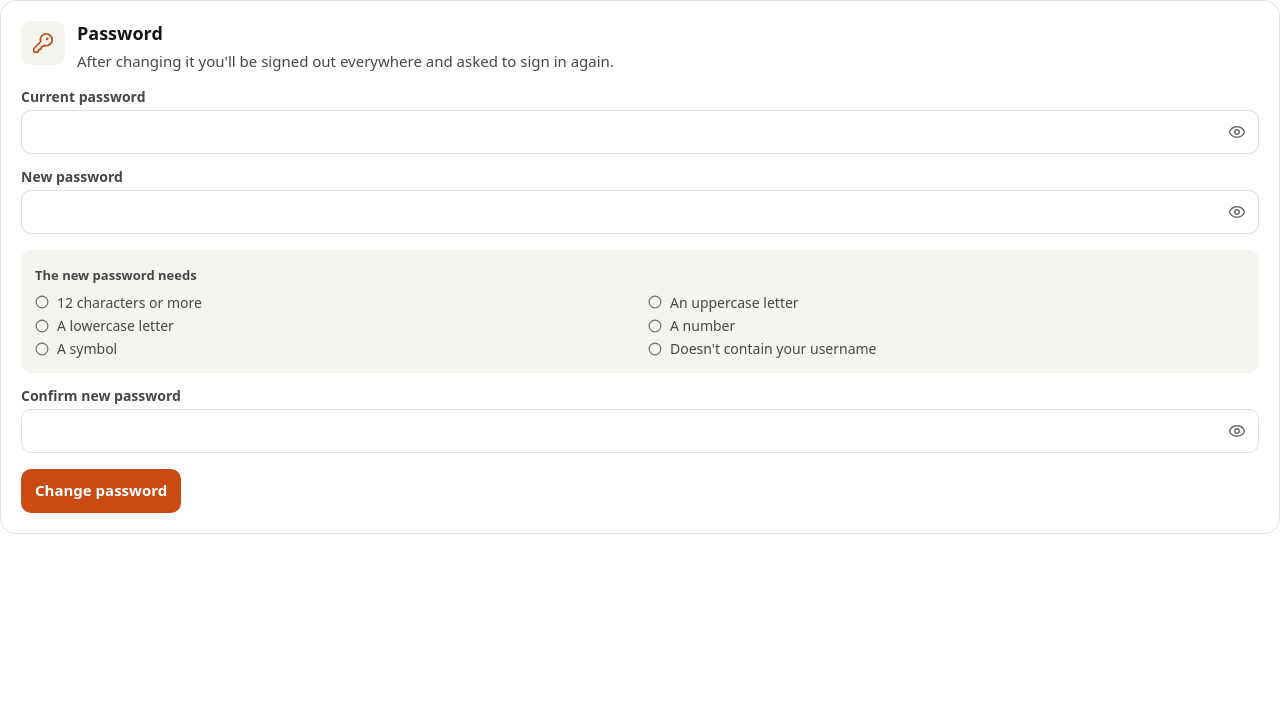
Test: change password › rejects a password containing the username and a mismatched confirmation
Type "Manager#Wolf2026!" into the password field labelled "Current password" at {"x": 640, "y": 132}, box [21,110,1259,154]
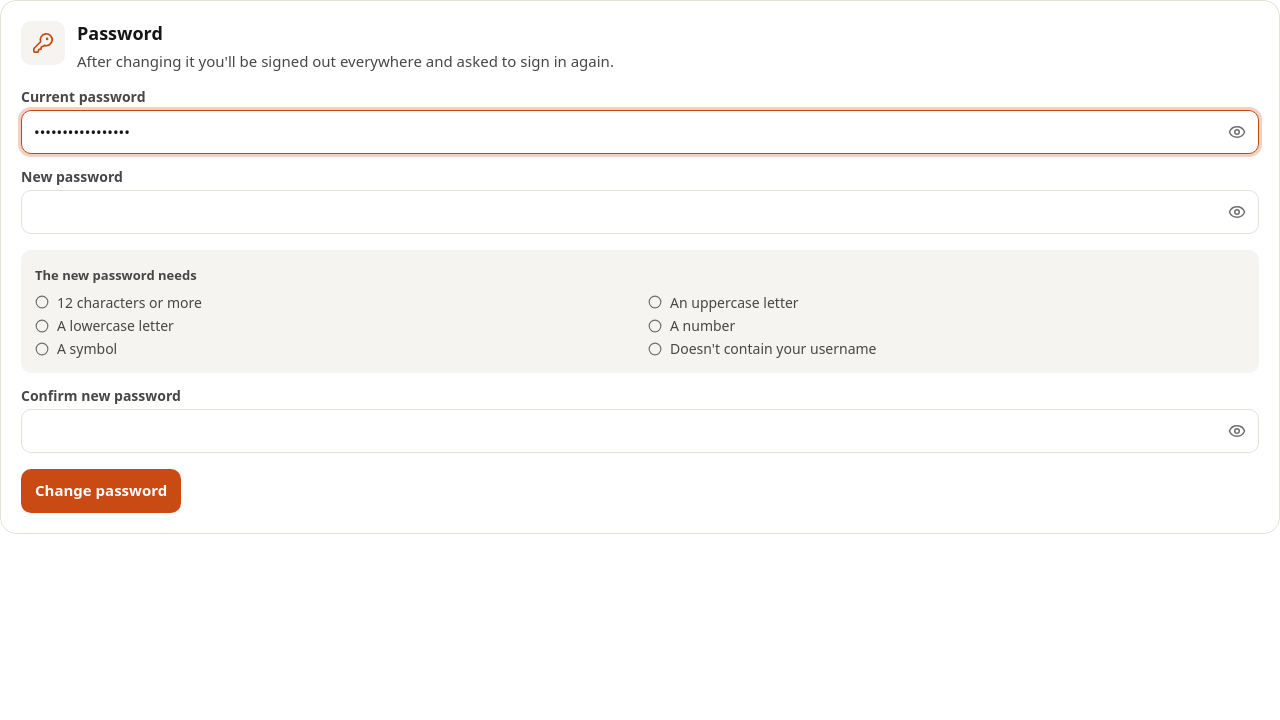
Type "Xgh.manager#2026" into the password field labelled "New password" at {"x": 640, "y": 212}, box [21,190,1259,234]
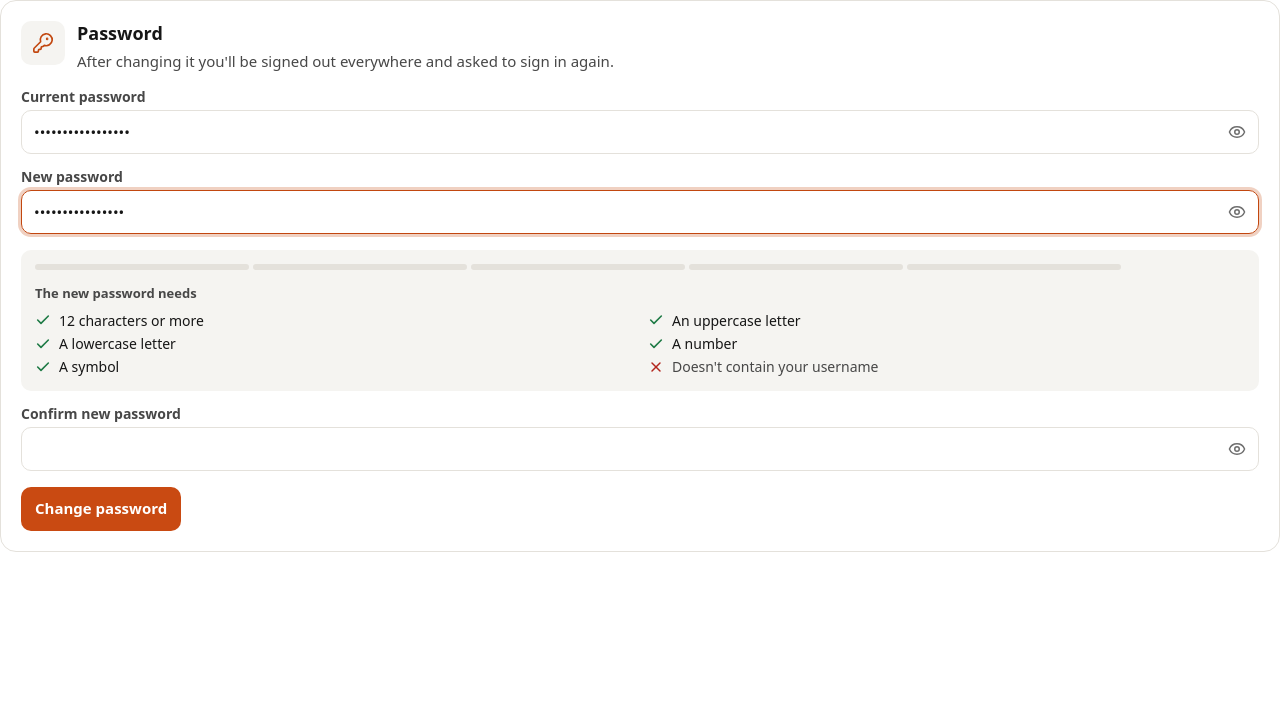
Type "Something#Else2026" into the password field labelled "Confirm new password" at {"x": 640, "y": 448}, box [21,426,1259,470]
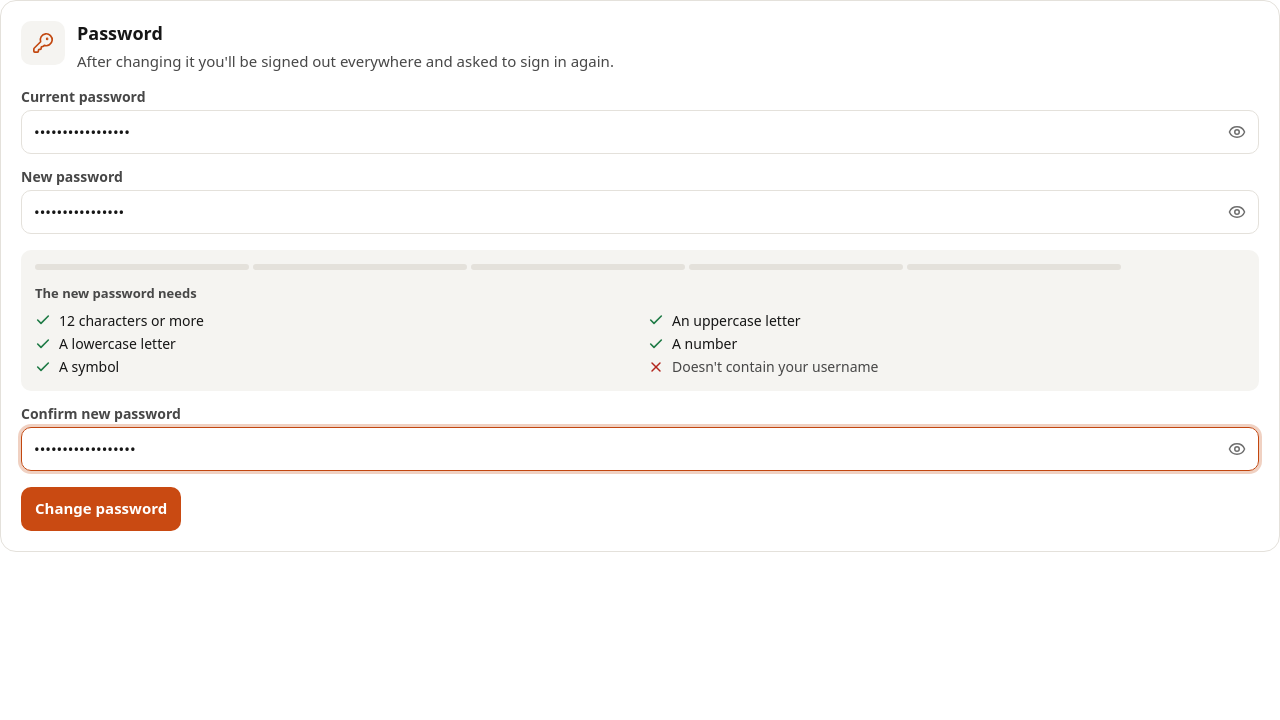
Click the button "Change password" at {"x": 101, "y": 508}, box [21,486,181,530]
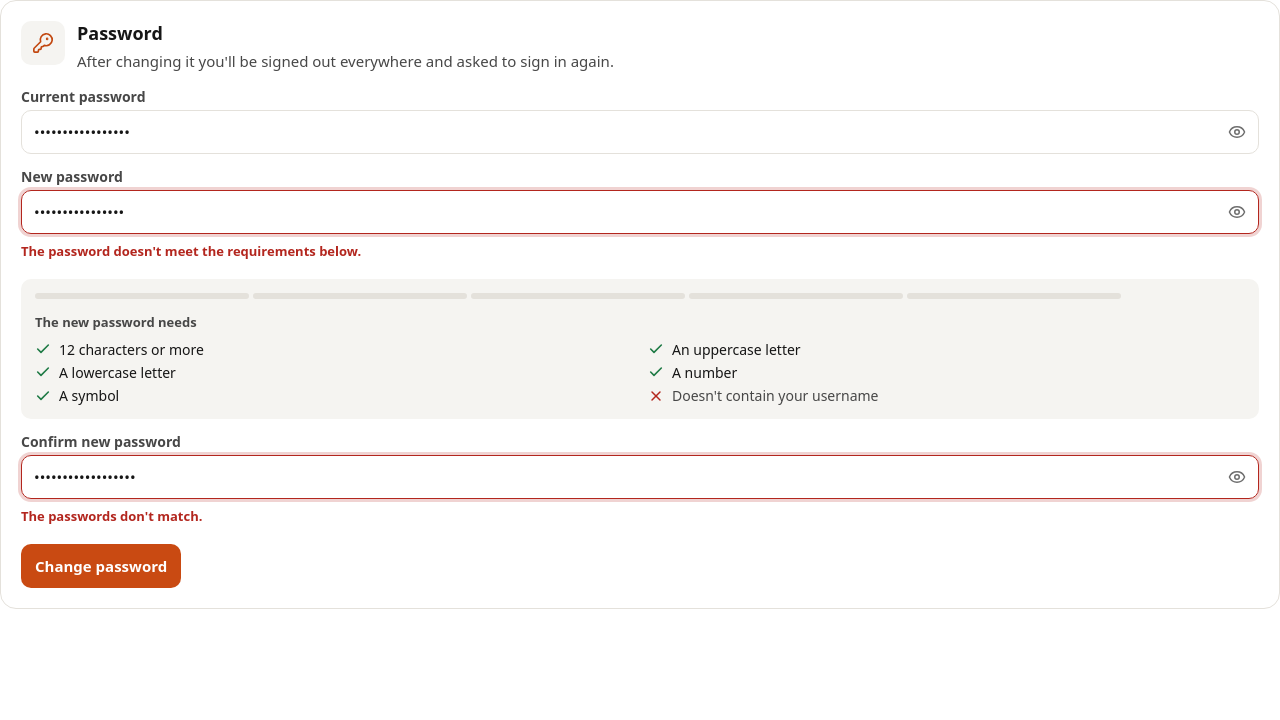
Result: the text "The password doesn't meet the requirements below." is shown at [21,242,361,260]
Result: the text "The passwords don't match." is shown at [21,507,202,525]
